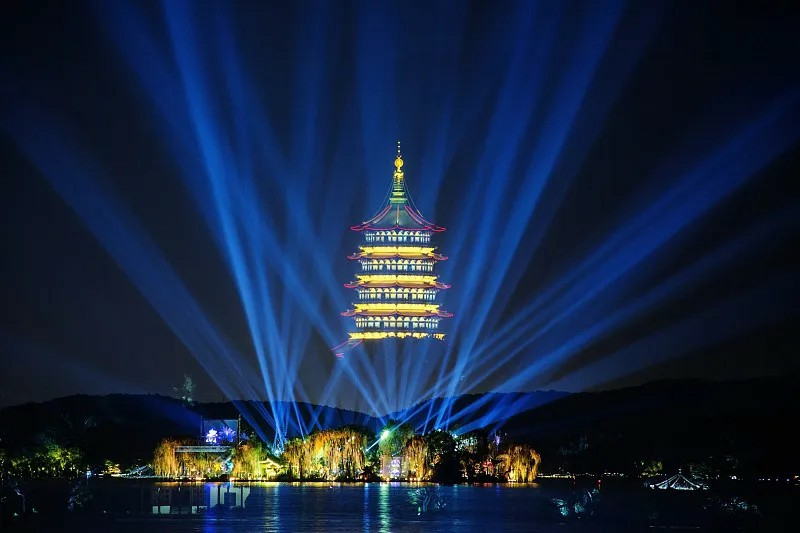Leifeng: (329, 141, 454, 358)
